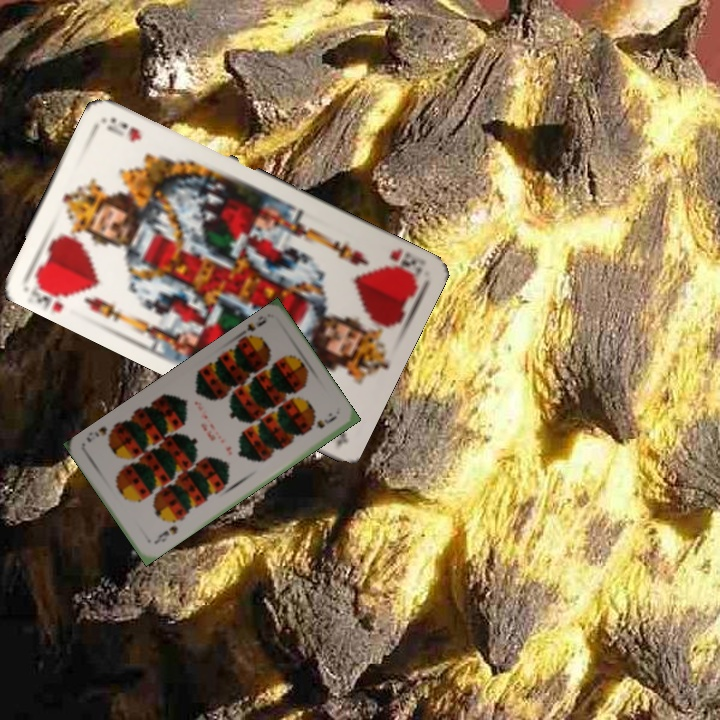HK: (26, 274, 77, 315), (381, 245, 423, 282)
S9: (235, 316, 269, 344), (150, 521, 180, 547)
